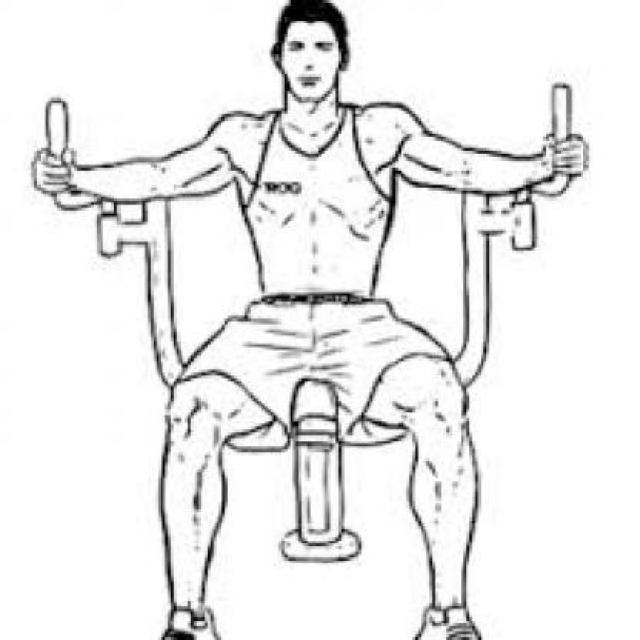chest fly machine: (14, 0, 598, 640)
